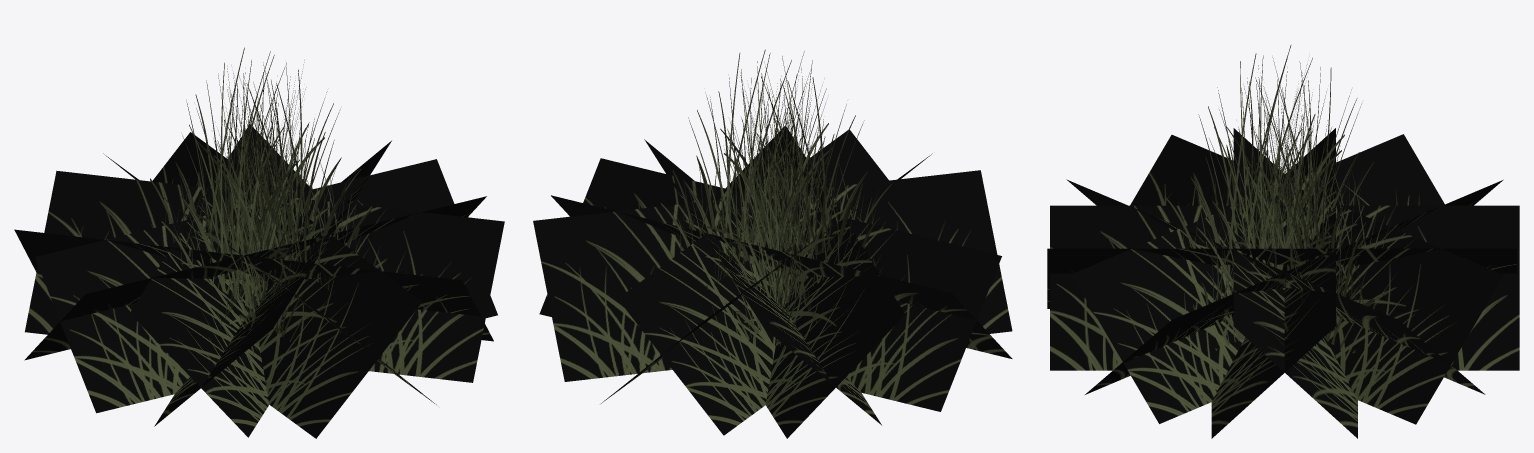
Rendered from Grass 1.fbx.
3 views of the same model, side by side, from view 1: azimuth 30°, elevation 25°; view 2: azimuth 150°, elevation 25°; view 3: azimuth 270°, elevation 25° (orthographic).
Parts seen in each view (by area): view 1: grass1_geo, grass2_geo; view 2: grass1_geo, grass2_geo; view 3: grass1_geo, grass2_geo.
Boxes of the visible parts, x1=… form: grass1_geo: x1=14, y1=124, x2=504, y2=438; grass2_geo: x1=150, y1=47, x2=371, y2=360; grass1_geo: x1=533, y1=126, x2=1012, y2=438; grass2_geo: x1=660, y1=49, x2=891, y2=357; grass1_geo: x1=1047, y1=128, x2=1519, y2=438; grass2_geo: x1=1165, y1=45, x2=1390, y2=353.
Bounding box in the file's own units: 25.07 × 16.21 × 25.21.
